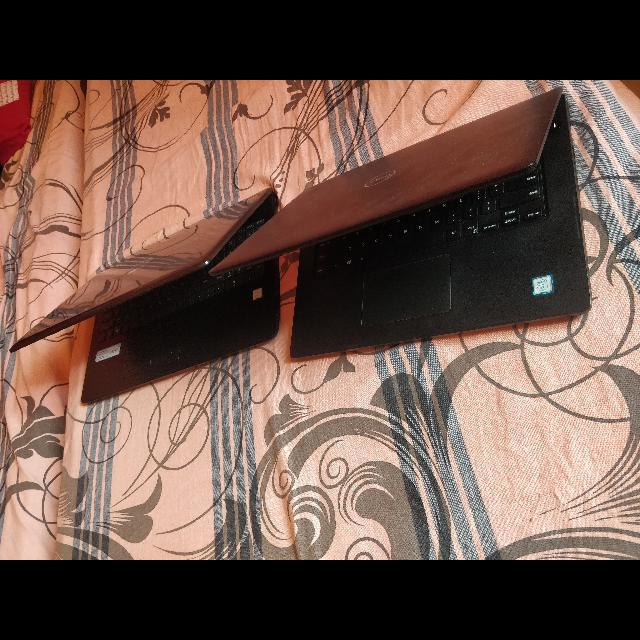Laptop: (193, 84, 614, 372), (8, 183, 292, 409)
